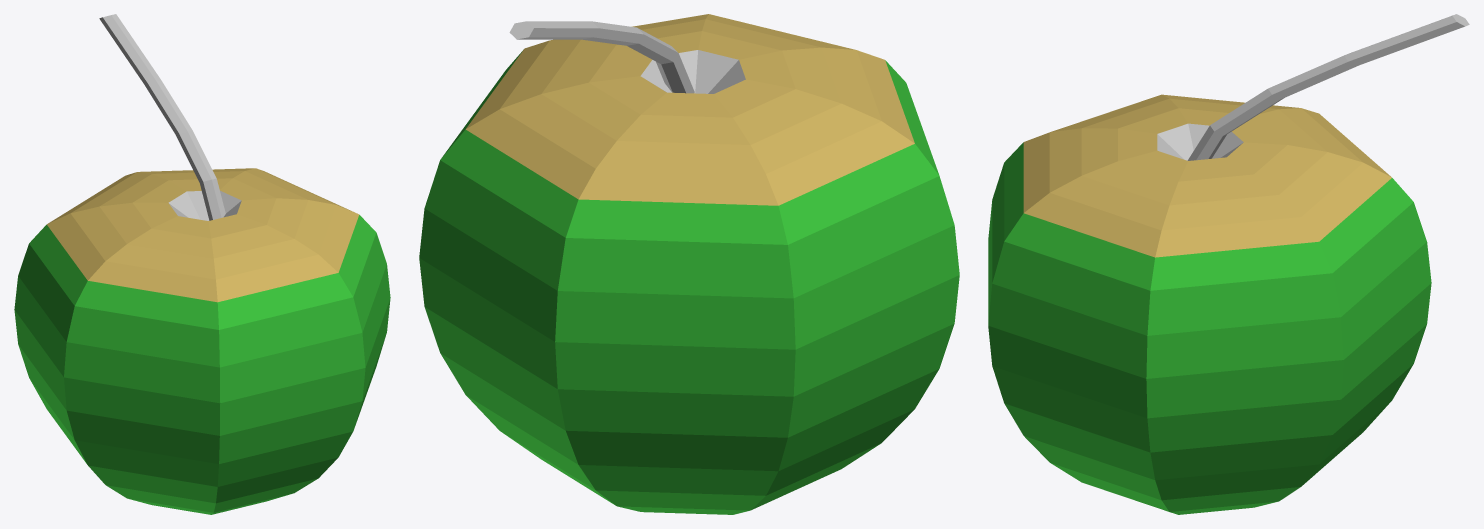
Rendered from coco.fbx.
3 renders of one model, left to right at view 1: azimuth 30°, elevation 25°; view 2: azimuth 150°, elevation 25°; view 3: azimuth 270°, elevation 25°, orthographic. The views are drawn at different scales.
Parts seen in each view (by area): view 1: Esfera UV, Cilindro; view 2: Esfera UV, Cilindro; view 3: Esfera UV, Cilindro.
Boxes of the visible parts, x1,y1,x2,y2 form: Esfera UV: (14,168,390,514); Cilindro: (99,14,225,220); Esfera UV: (419,14,959,514); Cilindro: (509,21,694,93); Esfera UV: (988,94,1431,514); Cilindro: (1187,14,1469,160).
Bounding box in the file's own units: 195 × 229 × 206.
